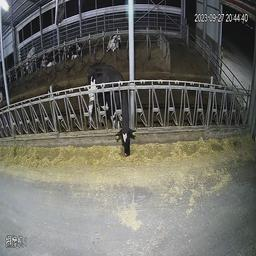cow: (85, 60, 136, 158), (42, 40, 64, 69), (22, 36, 38, 74), (106, 25, 125, 52), (67, 37, 82, 62)
